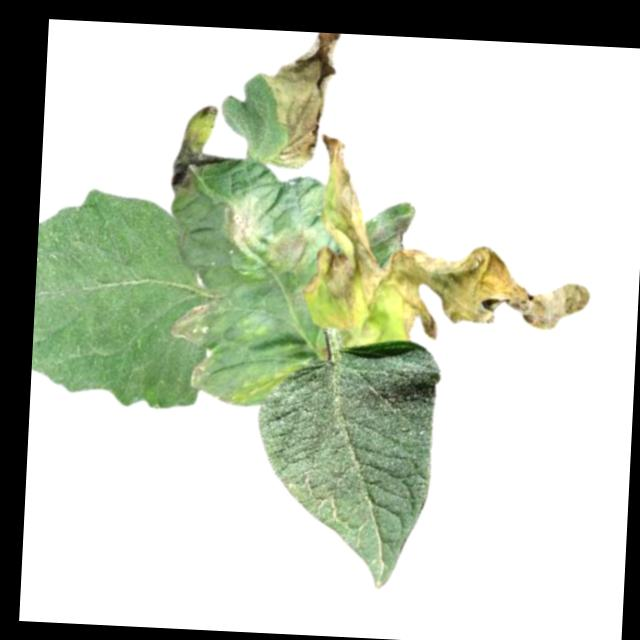Late_blight: (297, 132, 597, 351), (254, 30, 340, 172), (169, 101, 229, 193), (220, 192, 265, 248), (264, 226, 314, 272), (169, 297, 214, 345), (189, 355, 211, 390)
healthy: (247, 335, 442, 593), (30, 183, 208, 413)
